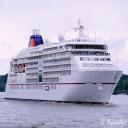cruises: (4, 20, 125, 108)
